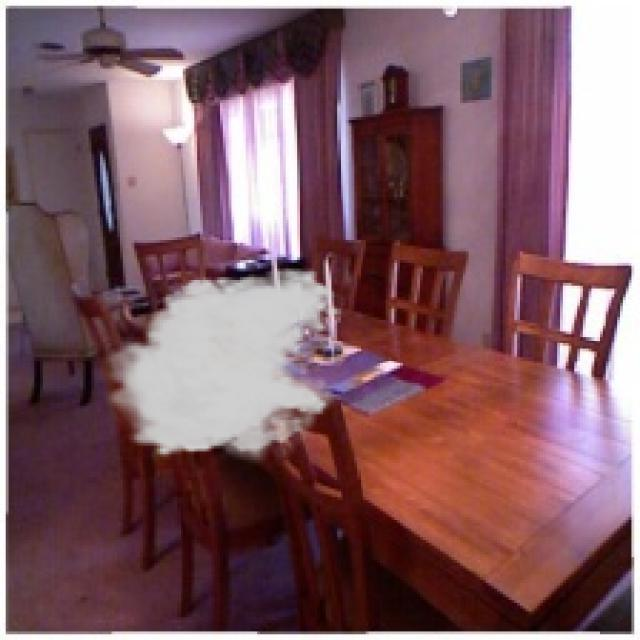Smoke: (97, 266, 343, 468)
